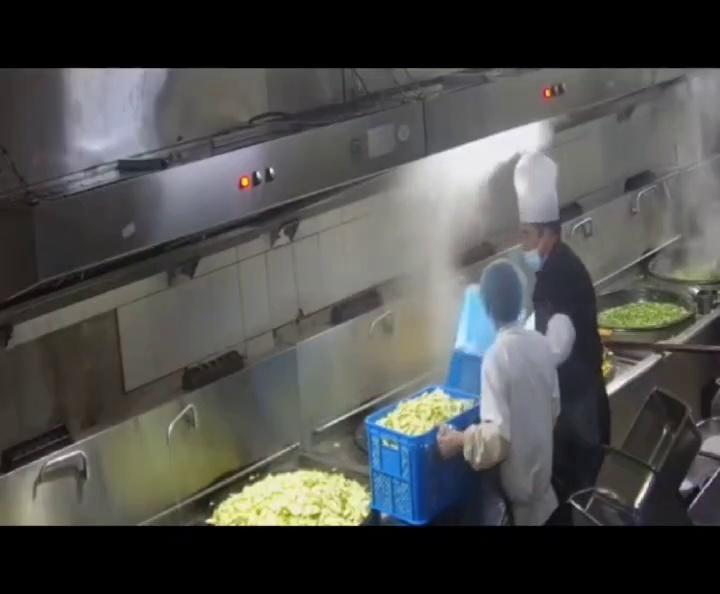mask: (520, 234, 548, 268)
